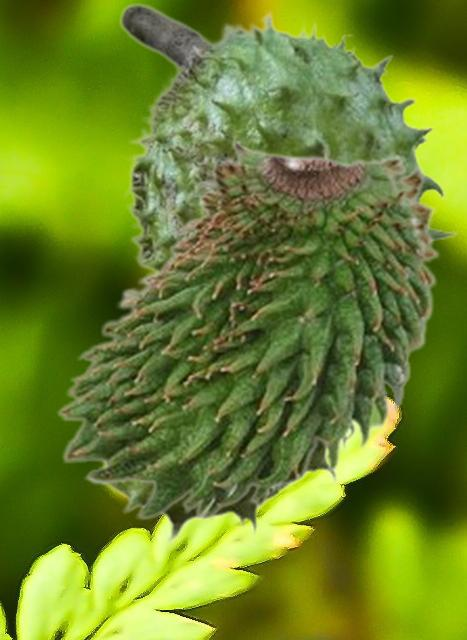guyabano: (87, 2, 458, 544), (55, 135, 440, 520)
